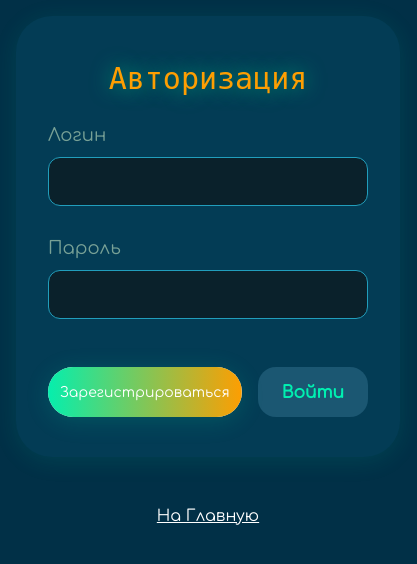
Test: Авторизация и регистрация › Показывает ошибку при пустых полях
Click the button "Войти" at (314, 392), box [258,367,369,417]
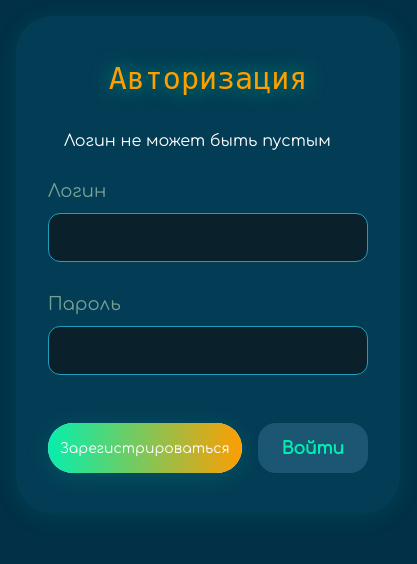
expect the text "Логин не может быть пустым" is shown: met, box [64,132,331,150]
